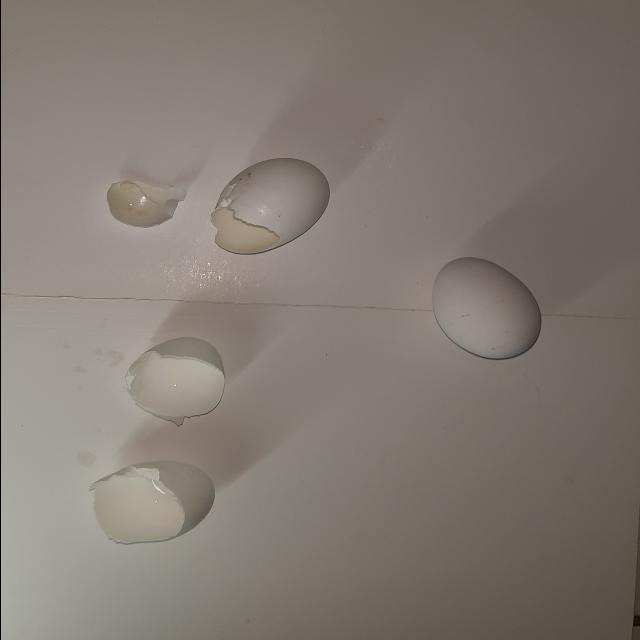egg shell: (198, 153, 336, 257), (80, 454, 222, 549), (426, 254, 545, 364), (106, 334, 232, 436), (106, 163, 189, 236)
